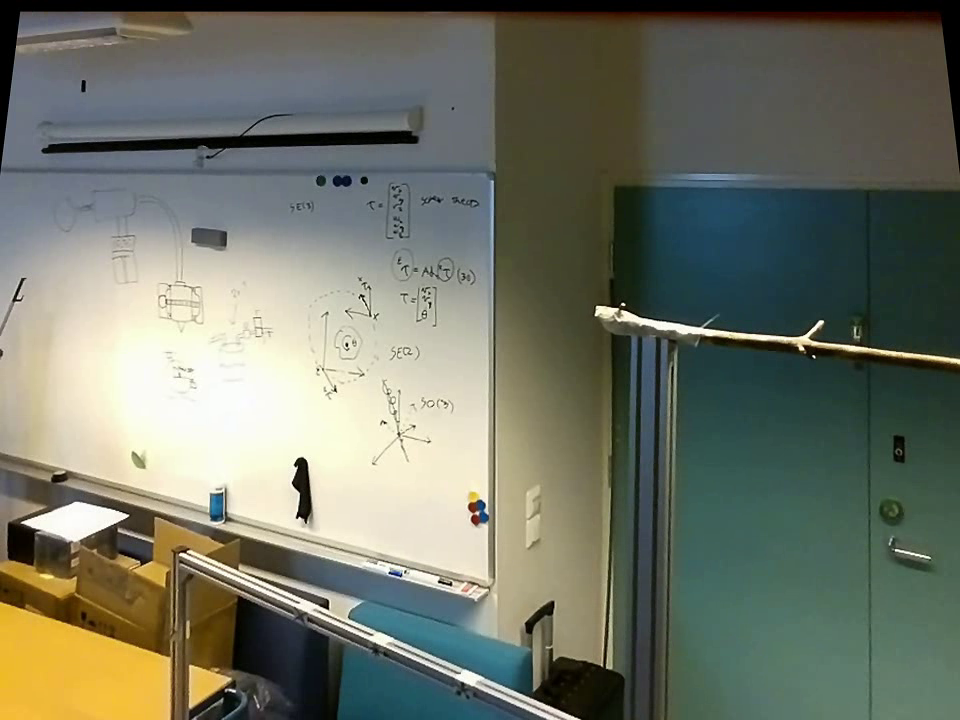aluminum_frame: (3, 450, 491, 601), (179, 543, 555, 718), (610, 331, 677, 718), (0, 162, 489, 182), (483, 164, 500, 583), (164, 542, 194, 717)
branch: (716, 302, 954, 378)
